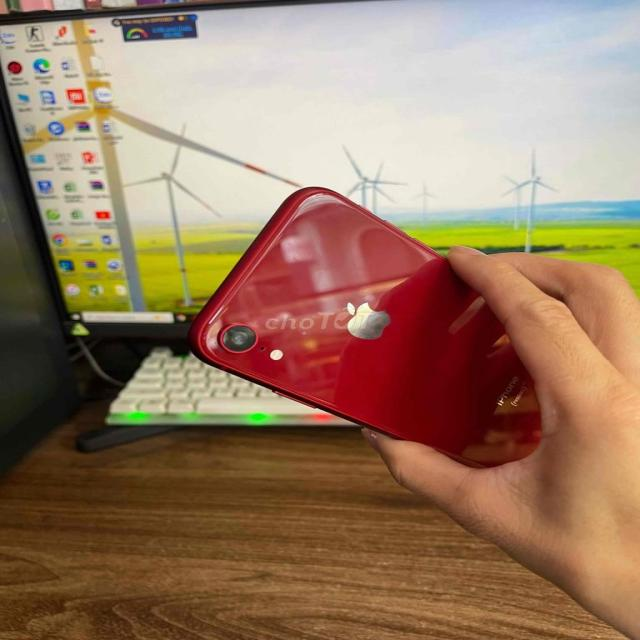scratch: (194, 328, 214, 354)
